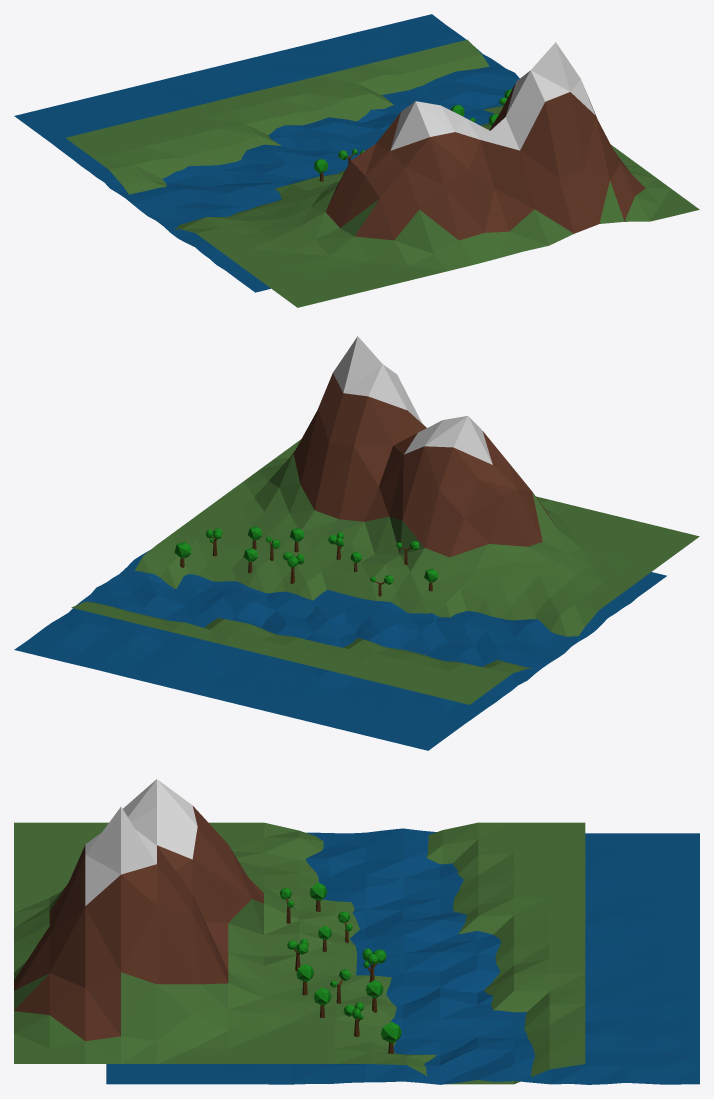
The model's file is mountain-scene-water.dae.
3 views of the same model, one above another, from view 1: azimuth 30°, elevation 25°; view 2: azimuth 150°, elevation 25°; view 3: azimuth 270°, elevation 25° (orthographic). The views are drawn at different scales.
Visible parts, largest first — view 1: Ground, Water; view 2: Ground, Water; view 3: Ground, Water.
Boxes of the visible parts, bbox=[...] form: Ground: bbox=[65, 39, 699, 307]; Water: bbox=[14, 14, 519, 292]; Ground: bbox=[71, 336, 699, 704]; Water: bbox=[14, 550, 666, 750]; Ground: bbox=[14, 779, 585, 1084]; Water: bbox=[106, 828, 699, 1084].
Size of the model in its own units: 65.14 by 74.62 by 26.12.
